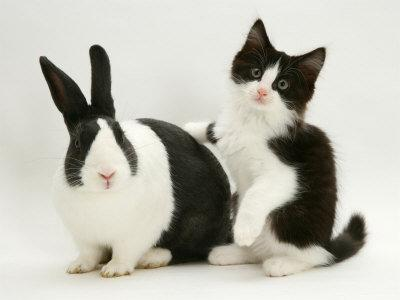cat: (212, 12, 383, 277)
rabbit: (27, 40, 236, 280)
